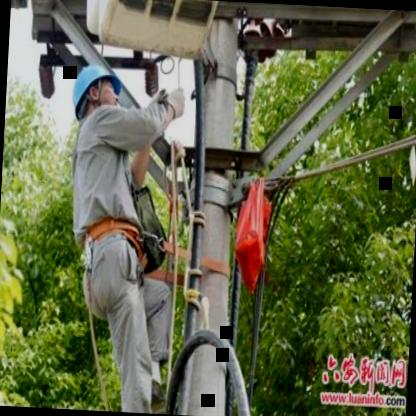helmet: (66, 56, 130, 128)
